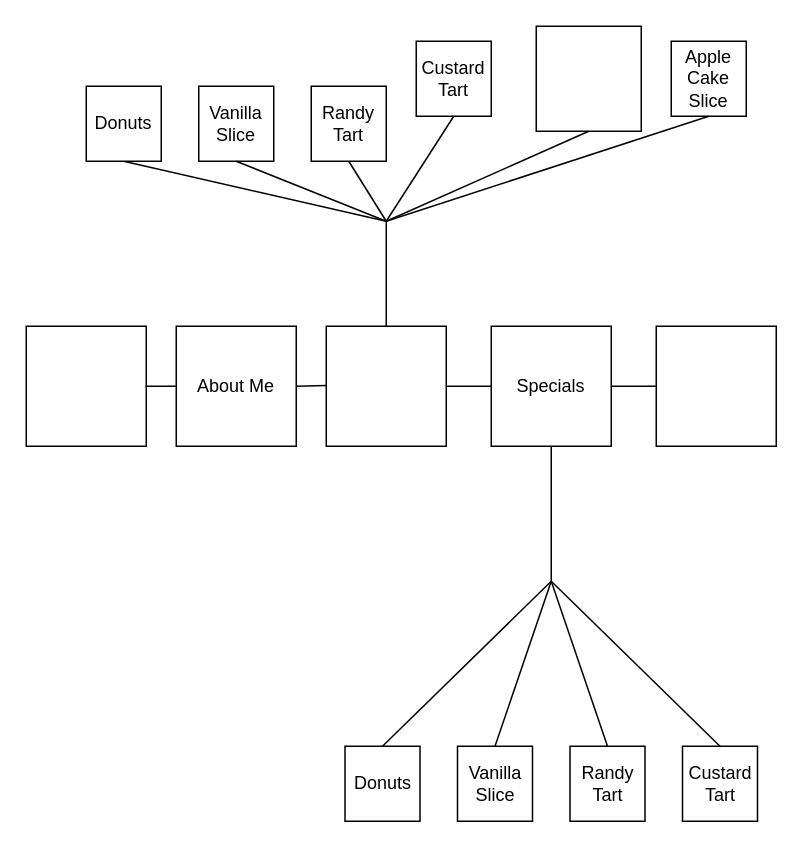
This 803x848 diagram has some shape labels left out. The centre of each missing label's shape, as x and y in pixels:
Home Page: (x=85, y=385)
Menu: (x=385, y=385)
Raspberry Cheesecake: (x=588, y=78)
Sign up: (x=715, y=385)
